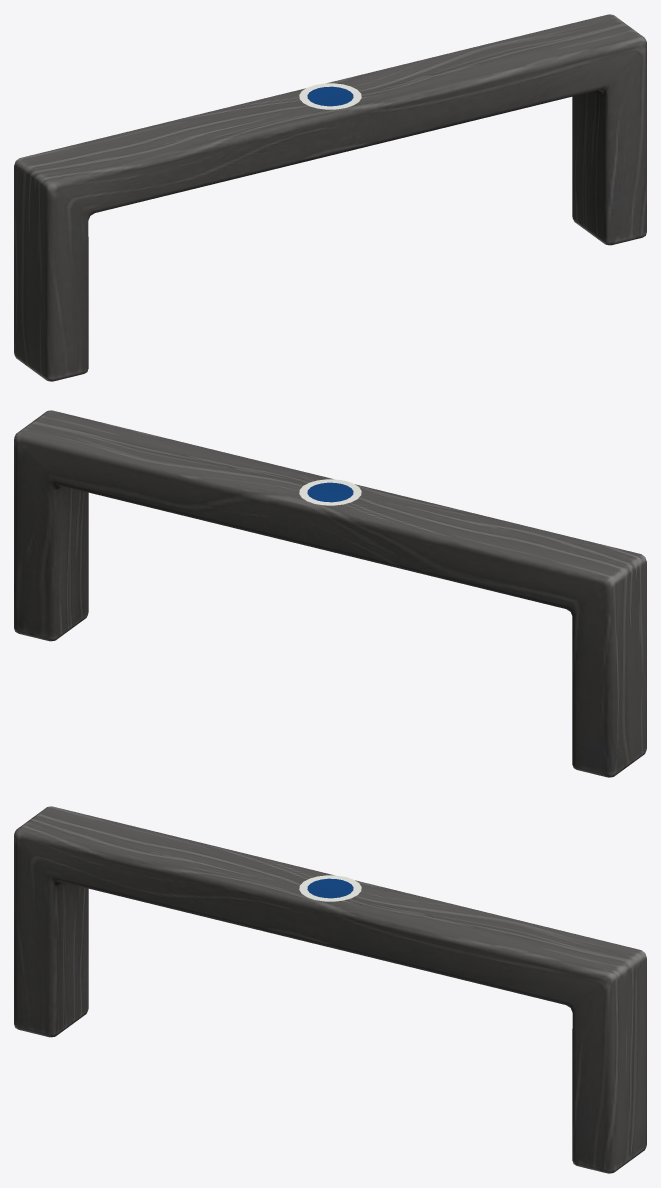
3 views of the same model, one above another, from view 1: azimuth 30°, elevation 25°; view 2: azimuth 150°, elevation 25°; view 3: azimuth 330°, elevation 25° (orthographic).
Visible parts, largest first — view 1: shape1_5, top_cycle; view 2: shape1_5, top_cycle; view 3: shape1_5, top_cycle.
Part boxes in pixels (bbox=[...]): shape1_5: bbox=[14, 14, 646, 381]; top_cycle: bbox=[299, 83, 361, 109]; shape1_5: bbox=[14, 410, 646, 777]; top_cycle: bbox=[299, 479, 361, 505]; shape1_5: bbox=[14, 806, 646, 1173]; top_cycle: bbox=[299, 875, 361, 901].
Bounding box in the file's own units: 47 × 15.09 × 5.
